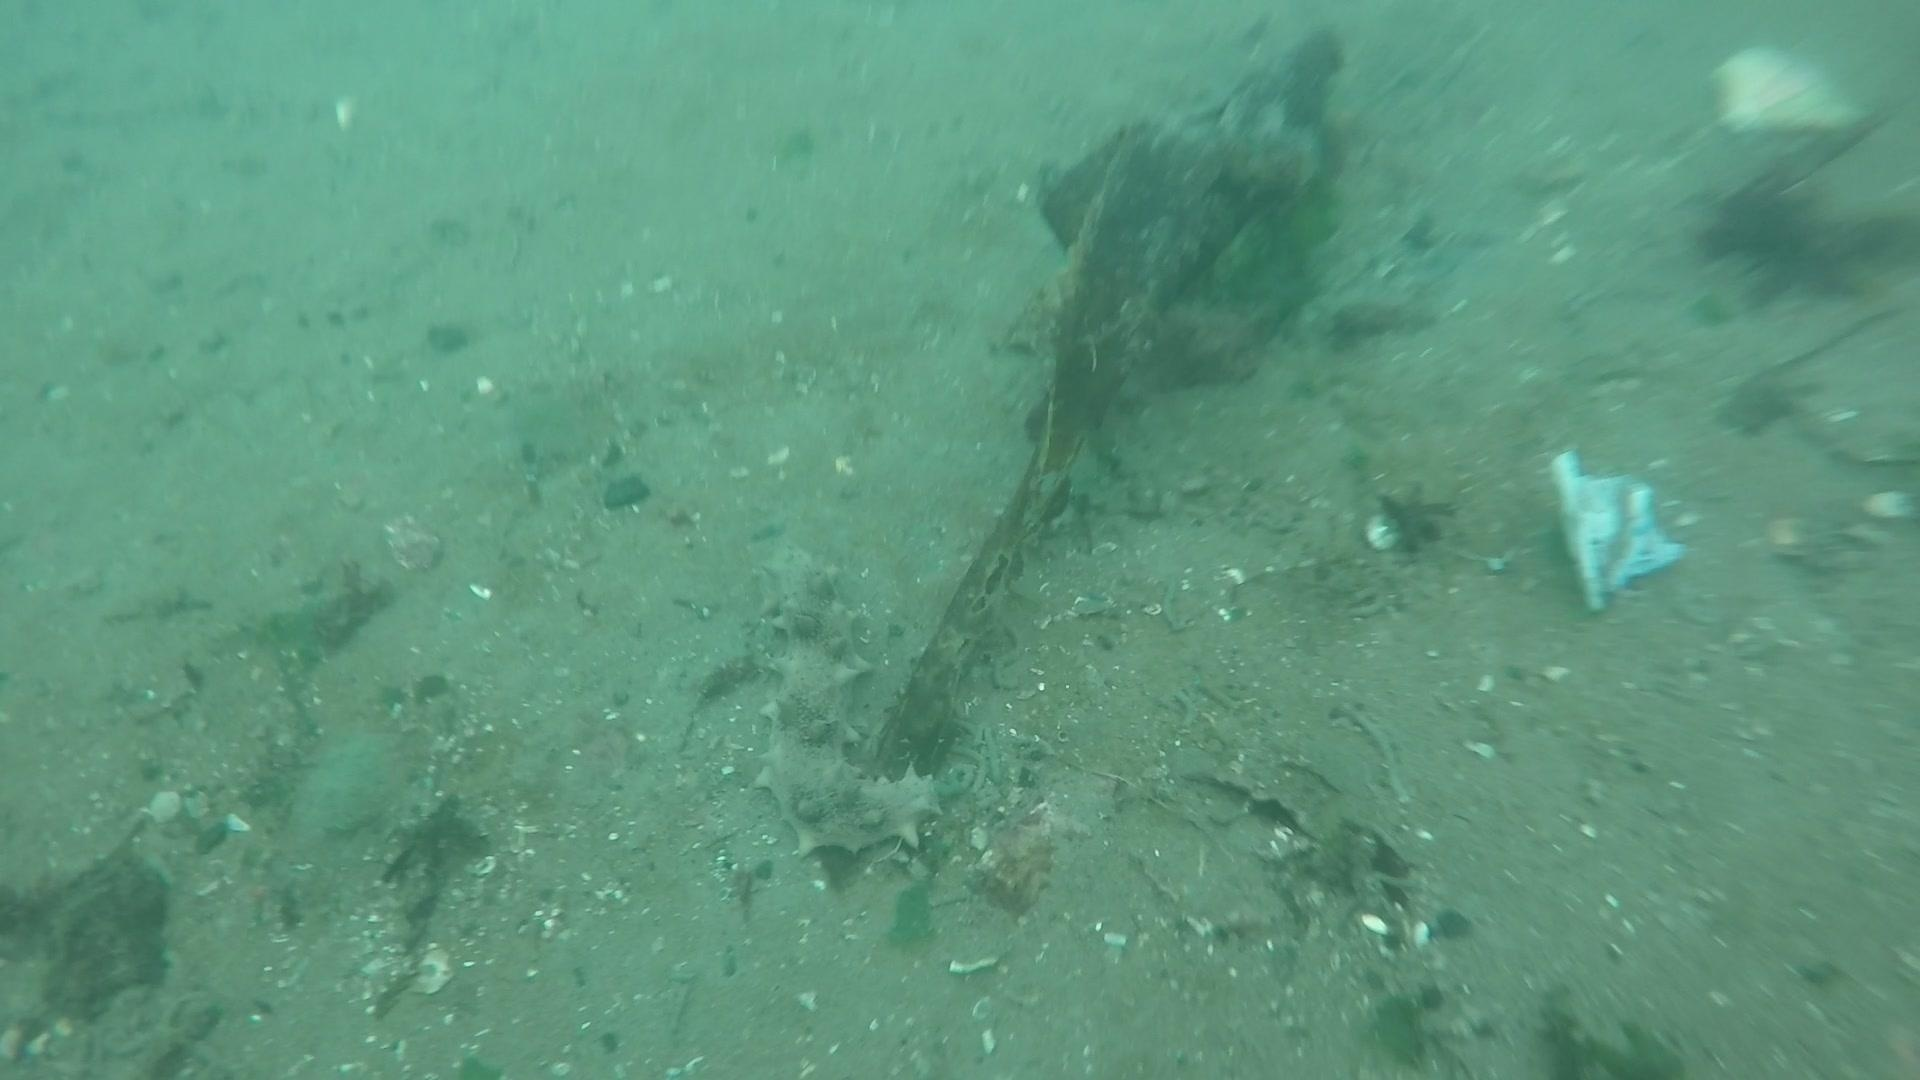holothurian: (741, 543, 961, 868)
